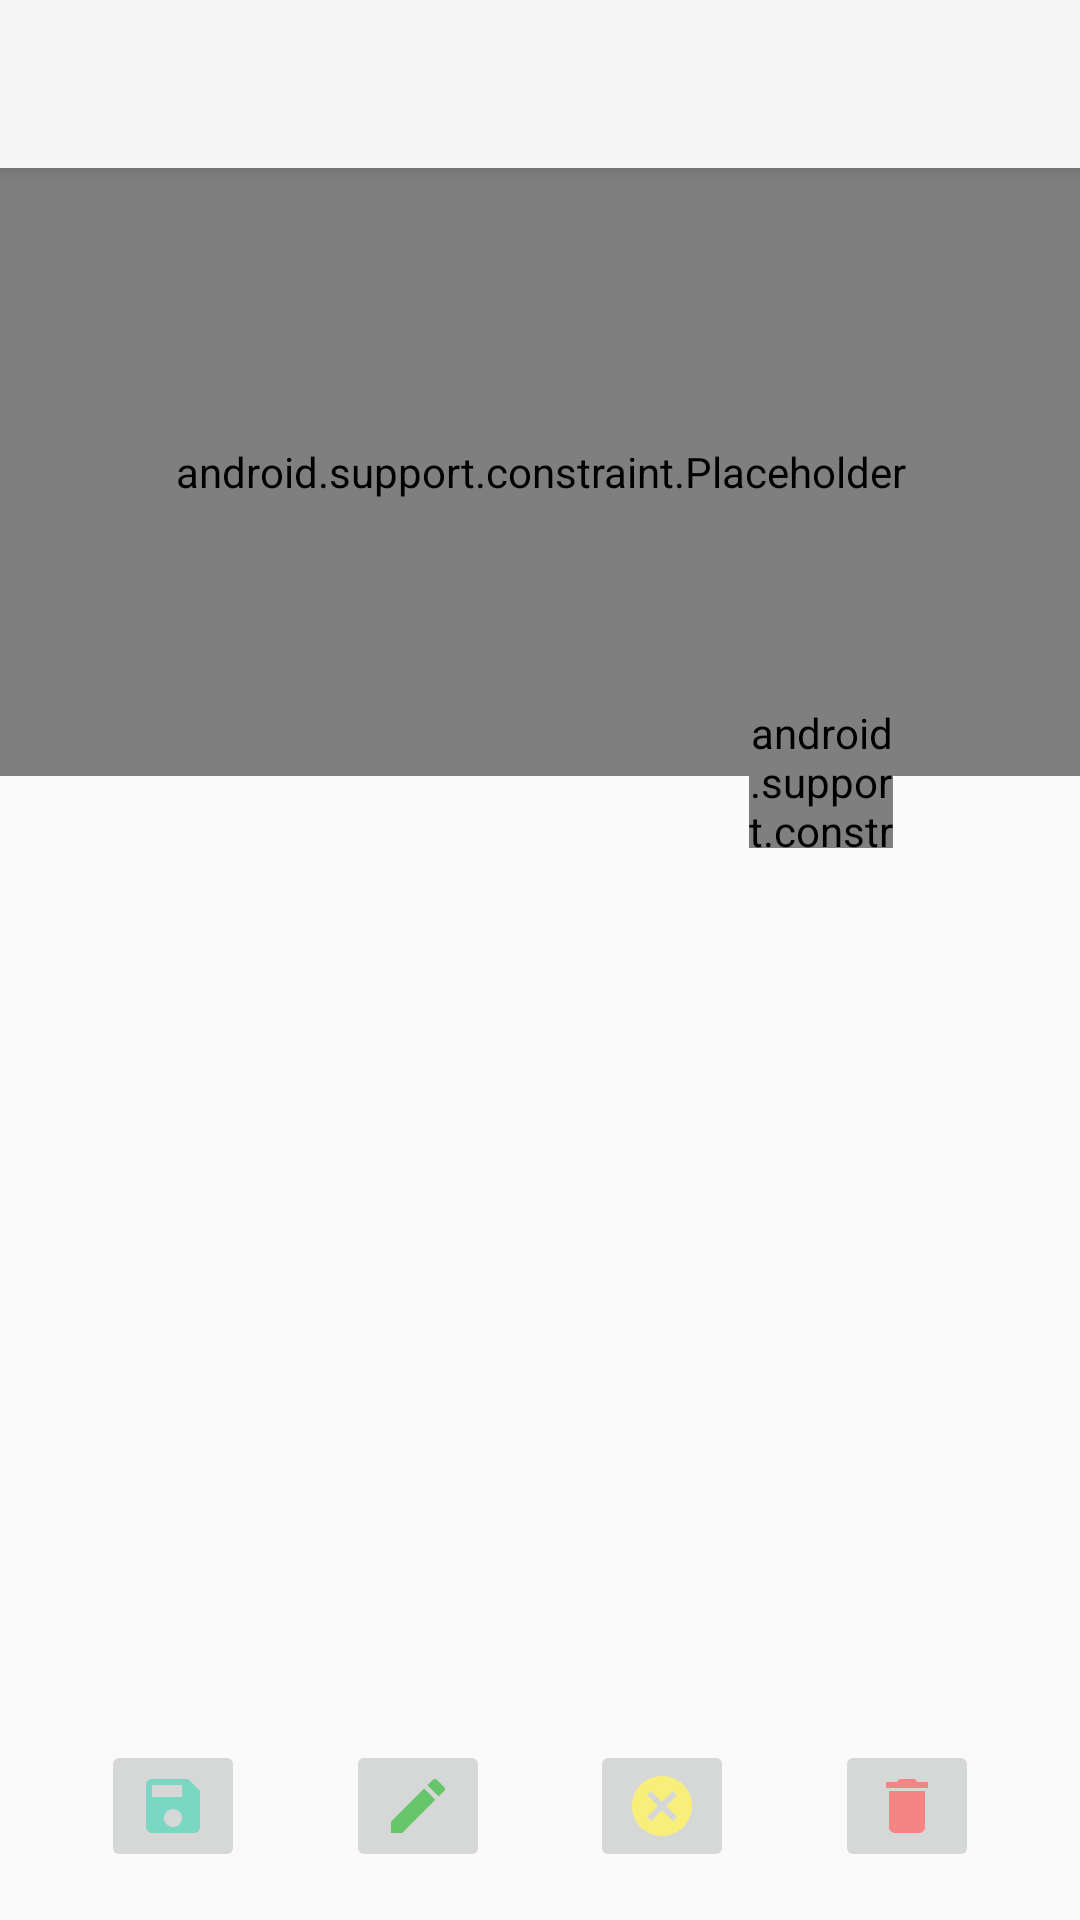

Where to tap for icons on this 1080 × 1920 app screen, as [x,y]:
cancel: [662,1806]
delete: [907,1806]
edit: [418,1806]
save: [173,1806]
